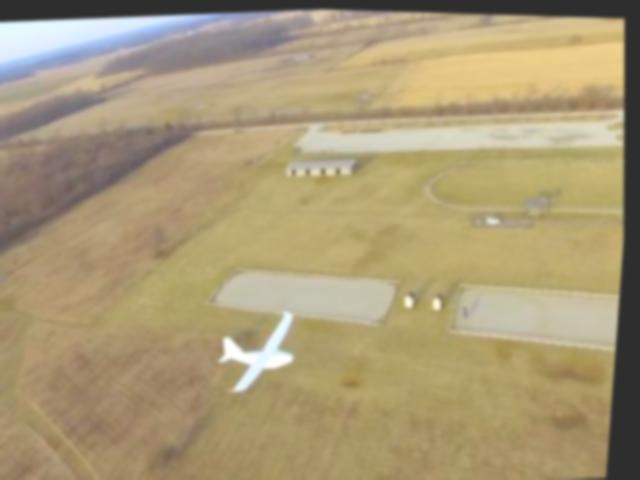uav: (210, 296, 316, 404)
